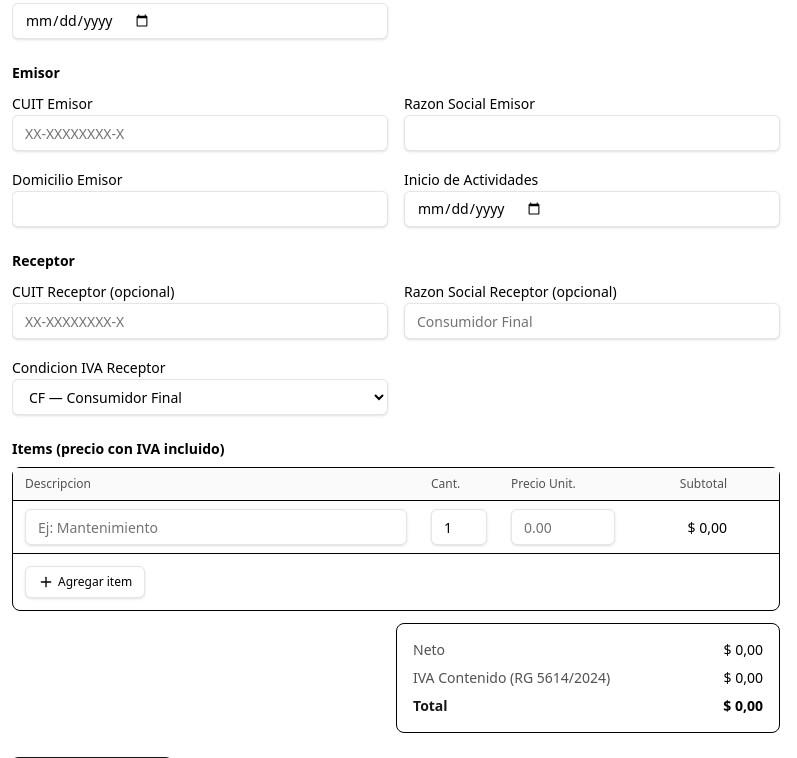
Scenario: FacturaBForm › [@display] marks CUIT as requerido when total >= $5000
(page scrolled)
Step 1. Type "Limpieza general" into the field named "Descripcion item 1" → (216, 527), box 25,509 -> 407,545
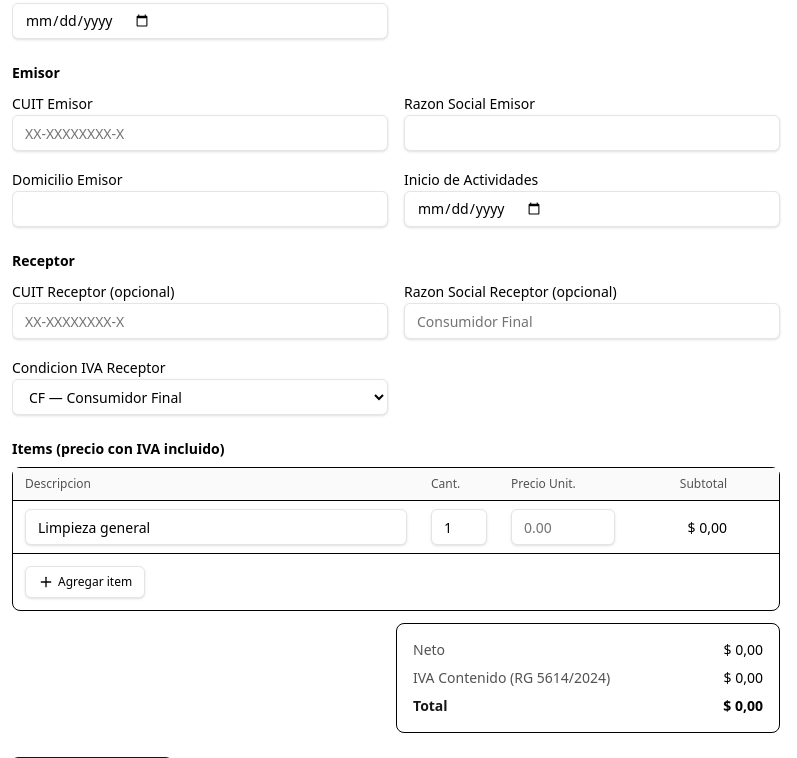
Step 2. Type "5000" into the number field named "Precio unitario item 1" → (563, 527), box 511,509 -> 615,545
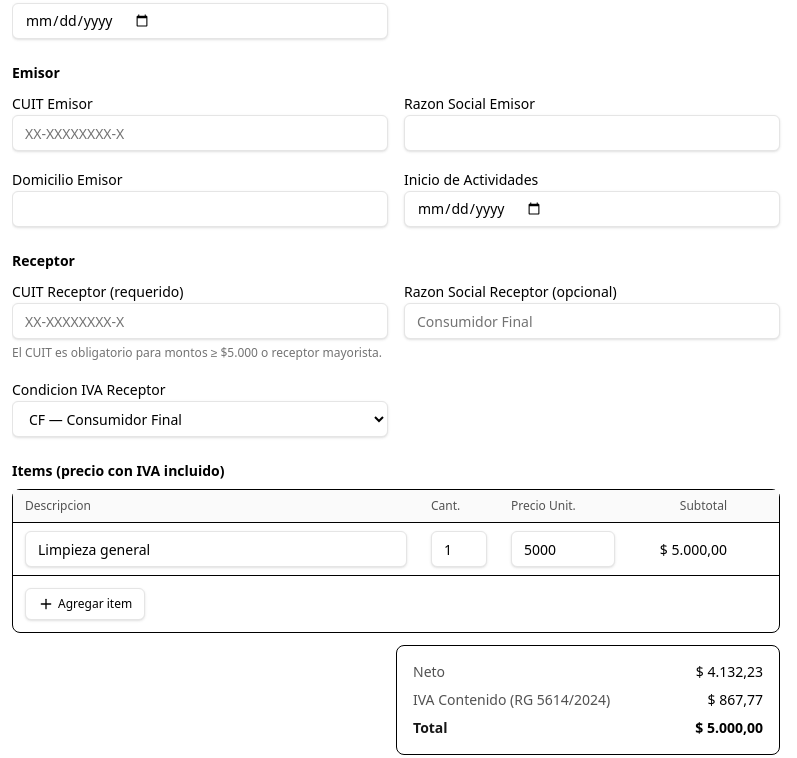
Expected: the text "CUIT Receptor (requerido)" is shown, 12,282 -> 184,301
Expected: the text "El CUIT es obligatorio para montos ≥ $5.000 o receptor mayorista." is shown, 12,345 -> 388,361
